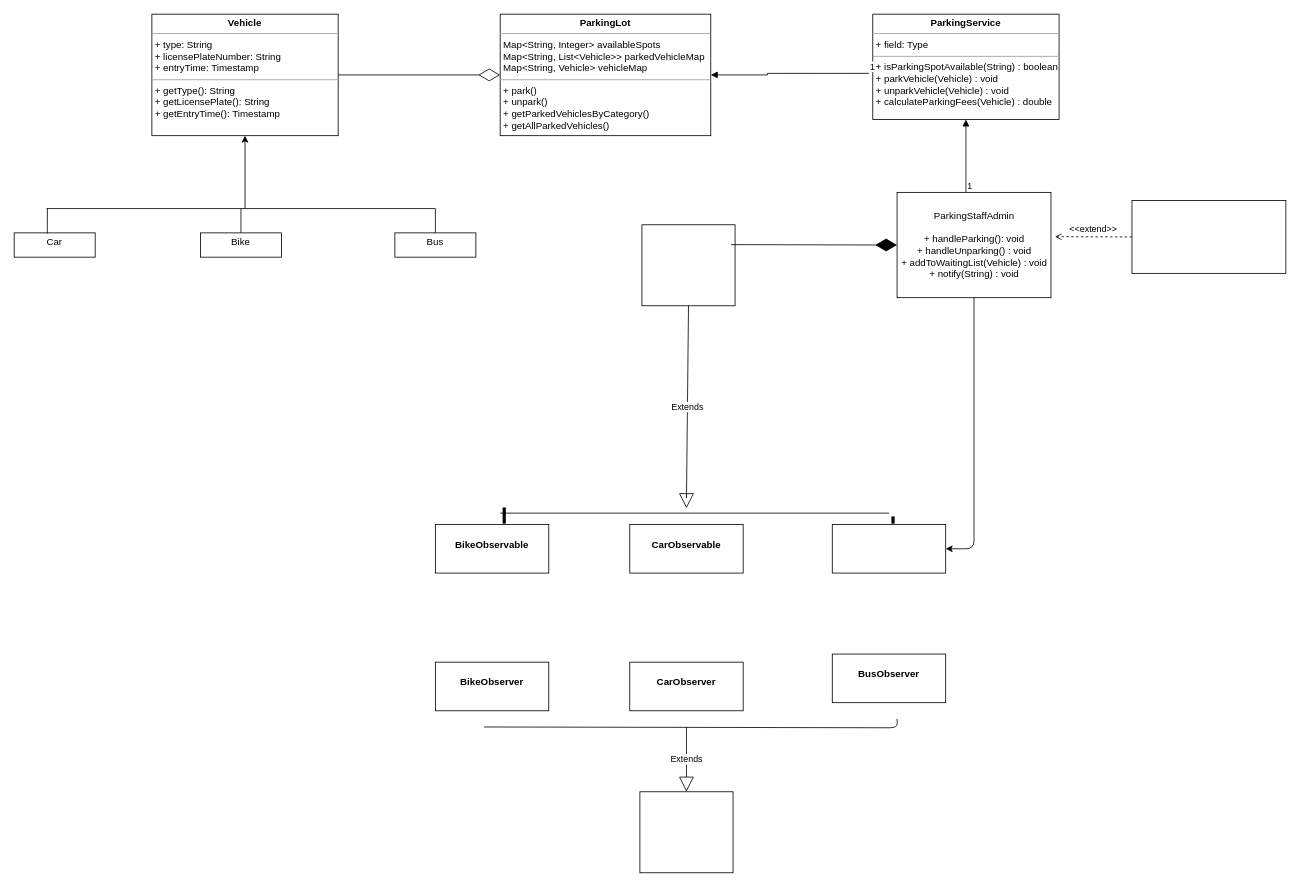
The diagram is 1300 pixels wide and 887 high, and some of its shapes have lost their labels. Here are the shapes that lost their labels. From the top down, the box of each, then its label:
(1131, 200, 1286, 273): ParkingStaff + getName(): String
(641, 224, 735, 306): «interface» ParkingObservable
(831, 524, 946, 573): BusObservable
(639, 791, 733, 873): «interface» ParkingObserver
